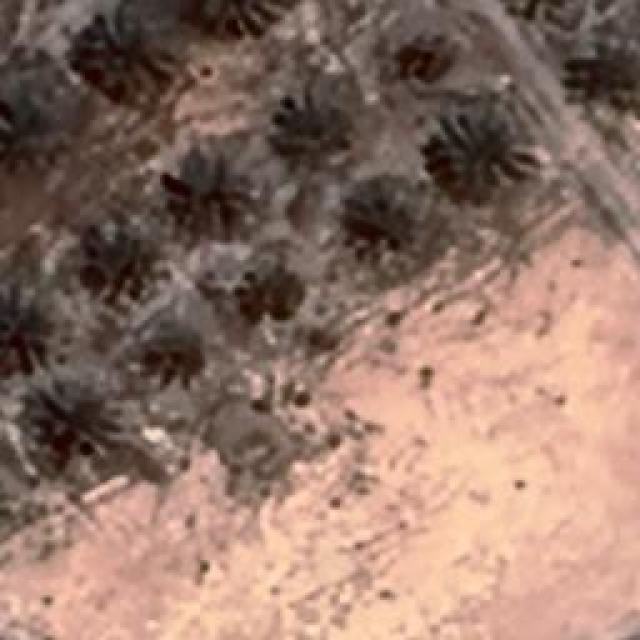PalmTree: (30, 71, 600, 132), (430, 110, 535, 200), (68, 21, 174, 99), (341, 175, 424, 270), (70, 222, 165, 300), (270, 96, 358, 169), (32, 380, 118, 450), (169, 156, 249, 229), (384, 20, 459, 90), (132, 322, 208, 390), (0, 277, 52, 370), (242, 260, 308, 330), (190, 0, 288, 38), (494, 0, 584, 25), (494, 0, 588, 16)
